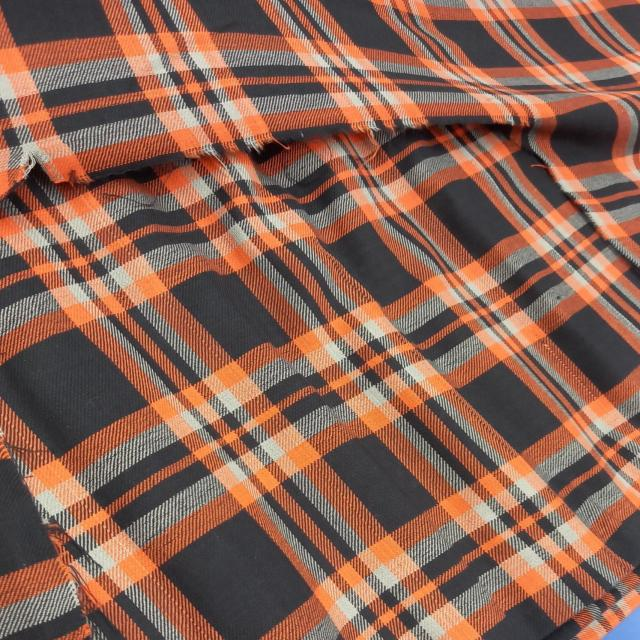cut: (39, 110, 544, 167), (4, 450, 97, 629), (552, 173, 627, 248)
